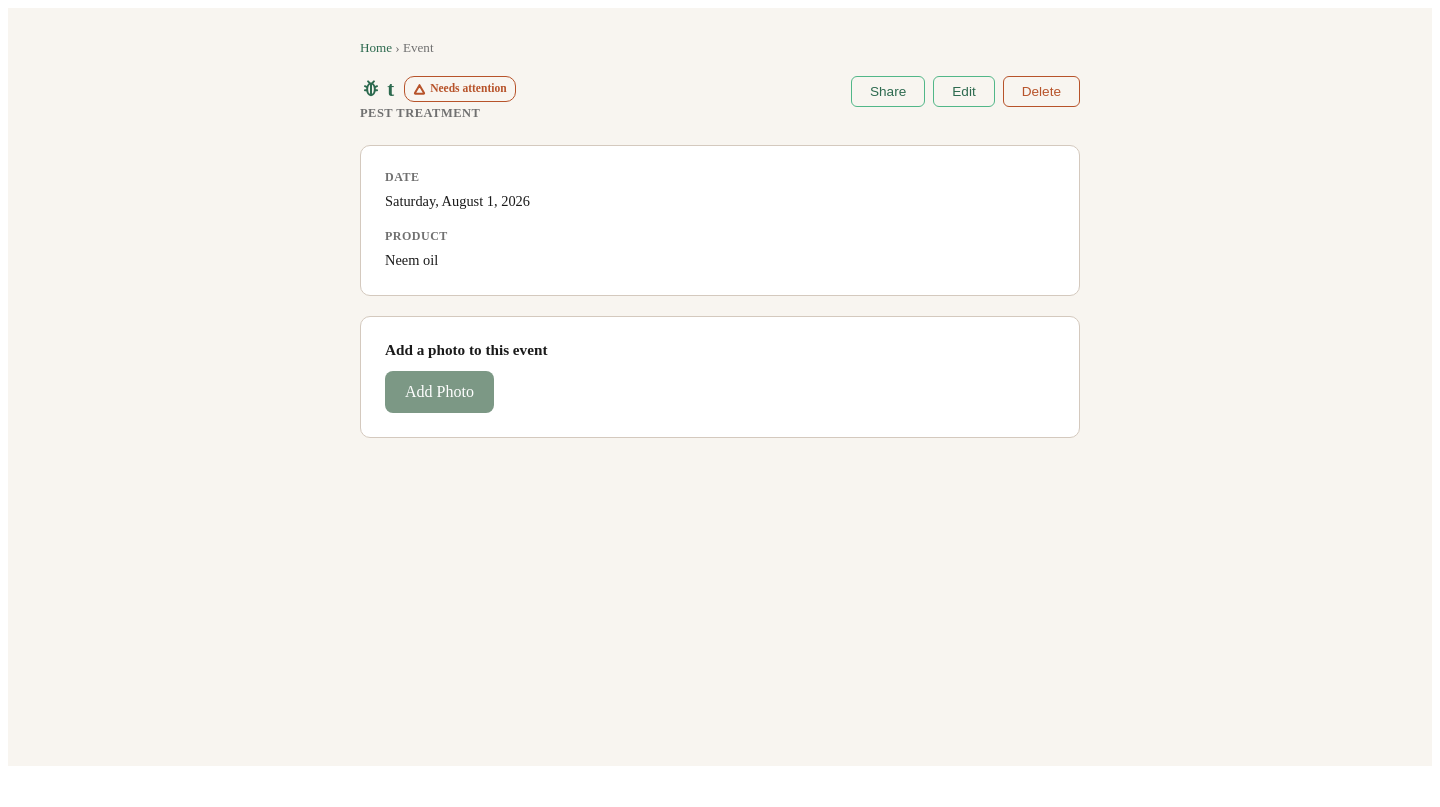
Test: slice 2: the edit form seeds and saves what it can now write › seeds the flag and severity, and renders severity only while flagged
Click the button "Edit" at (964, 92), box [933, 76, 995, 107]
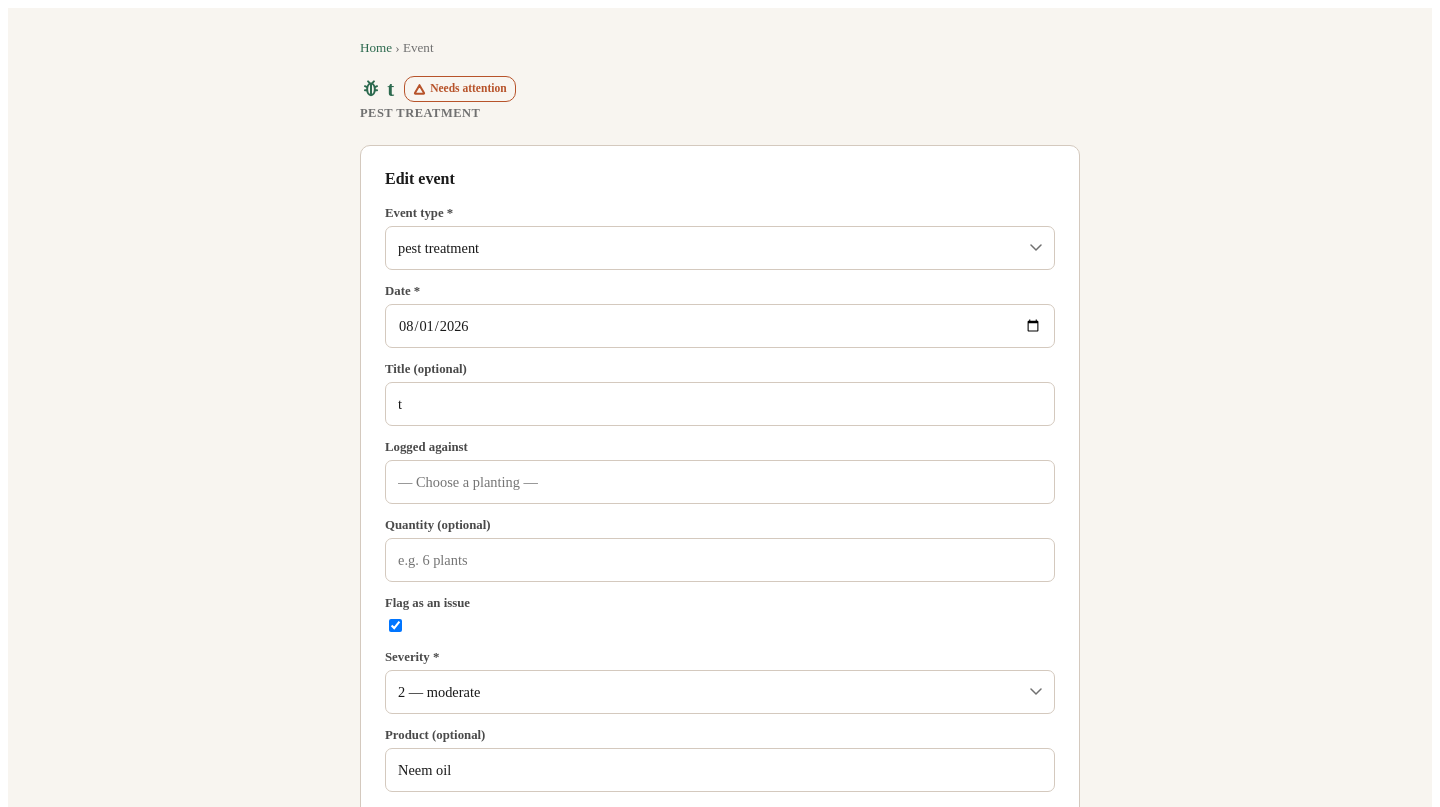
Expected: the checkbox labelled "Flag as an issue" is checked
Expected: the dropdown labelled "Severity *" shows "2 — moderate", [385, 670, 1055, 714]
Click the checkbox labelled "Flag as an issue" at (396, 626), box [389, 619, 402, 632]
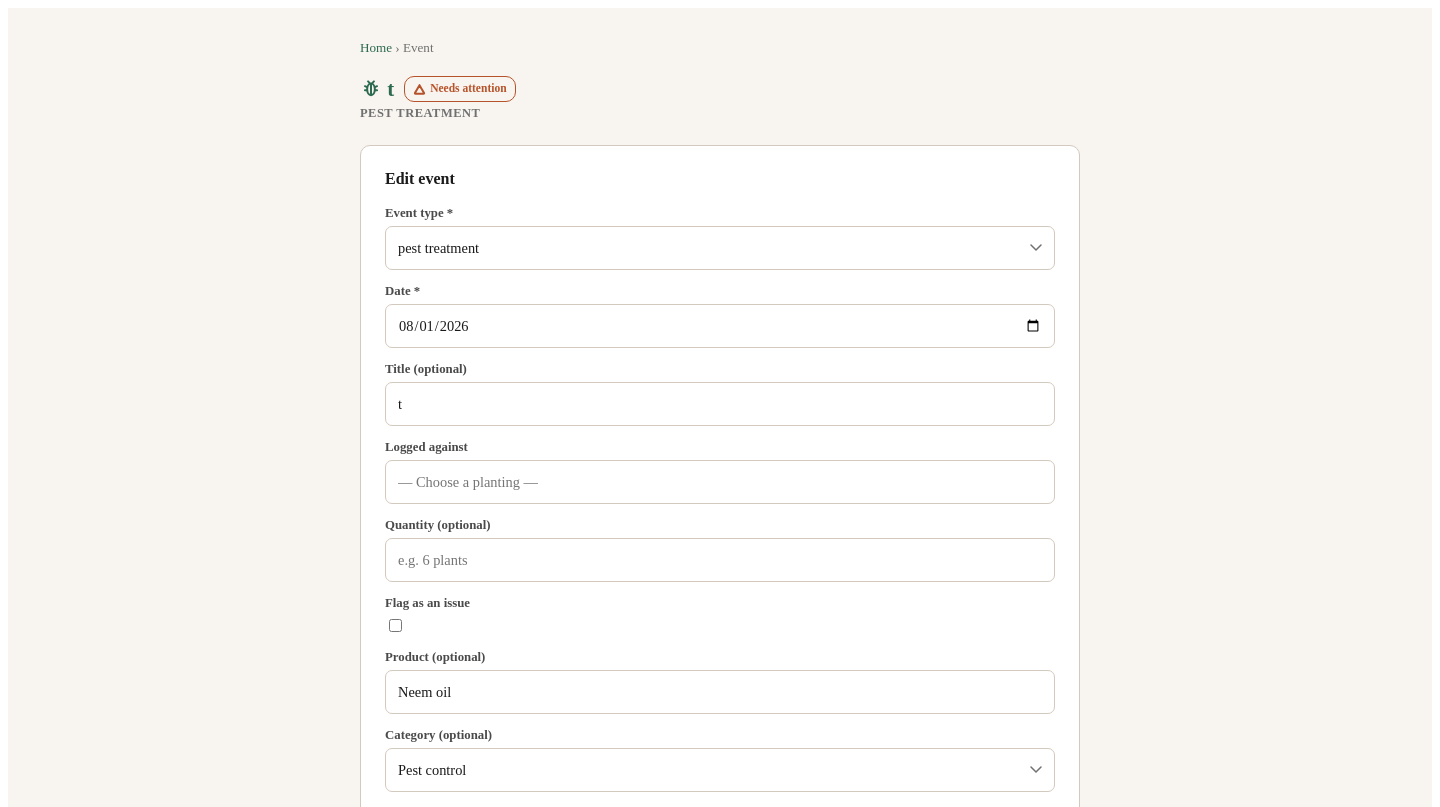
Expected: the label labelled "Severity" is gone
